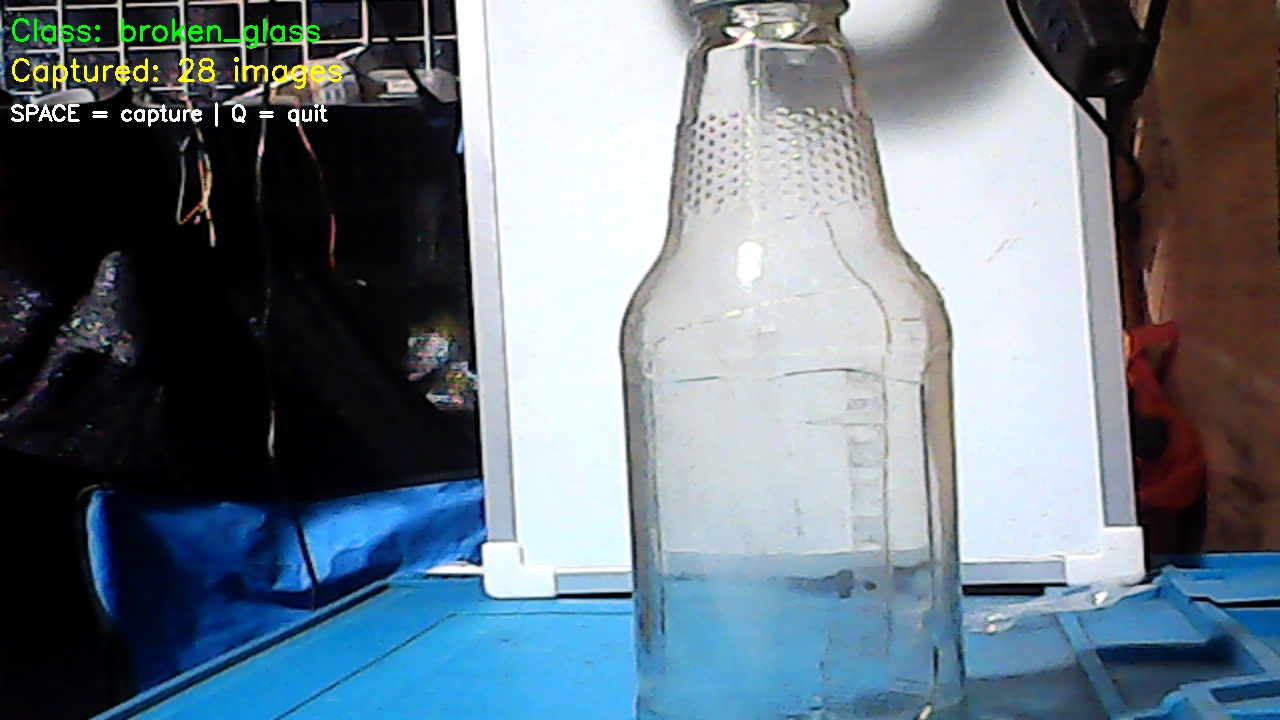broken_glass: (590, 7, 967, 720)
